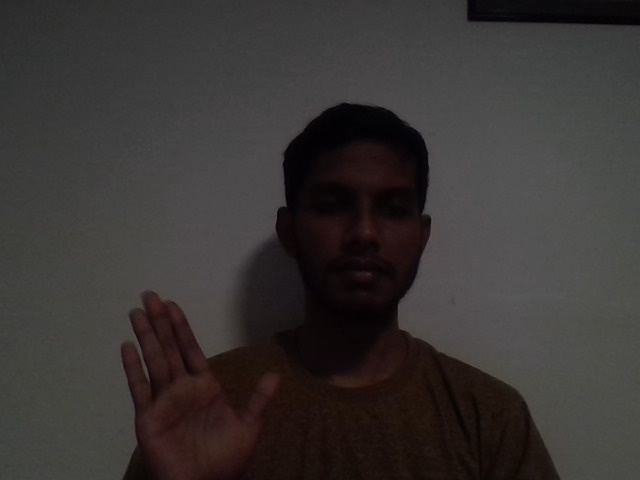hello: (78, 278, 310, 472)
